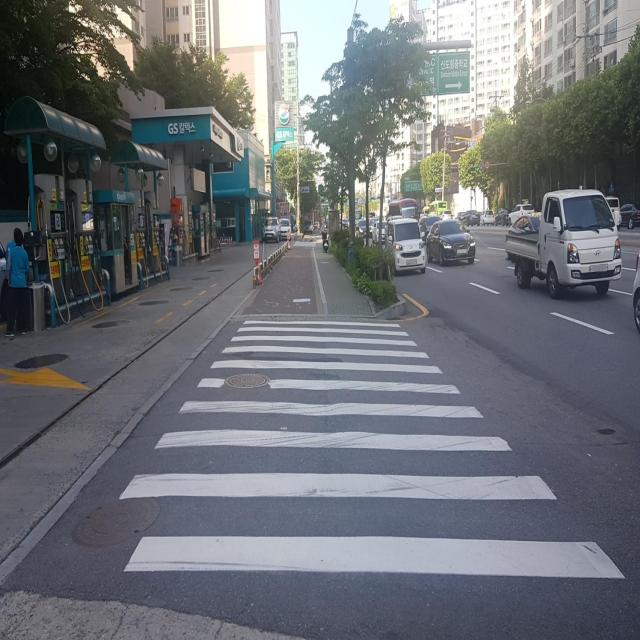횡단보도: (114, 311, 629, 586)
